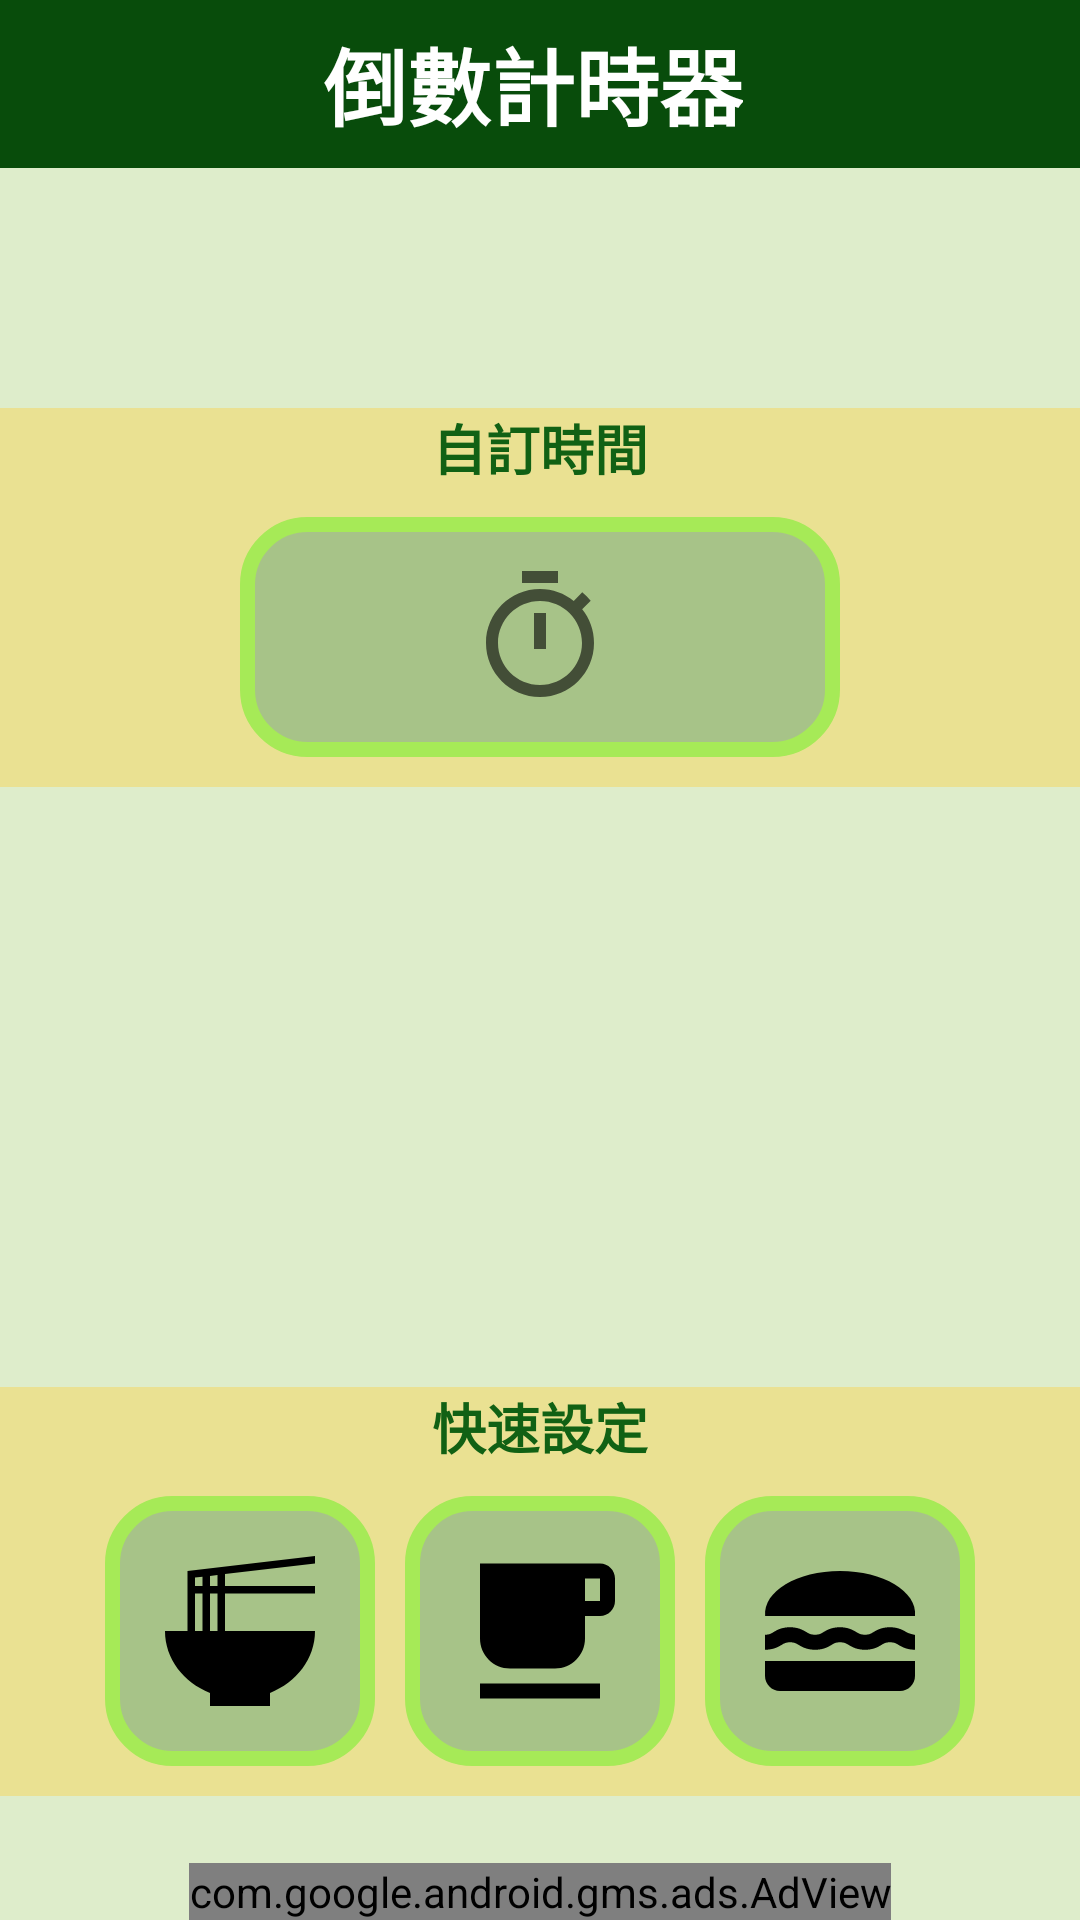

Named icons in this screenshot (1080*1920) and their bounding boxes, (x1, y1, x2, y2):
drink: (405, 1496, 675, 1766)
food: (705, 1496, 975, 1766)
instant noodles: (105, 1496, 375, 1766)
